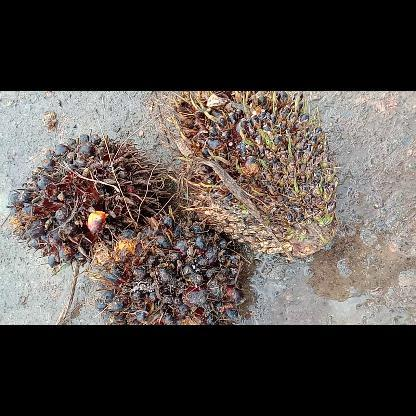TBS abnormal: (160, 90, 336, 258), (8, 132, 172, 266), (91, 207, 245, 324)
